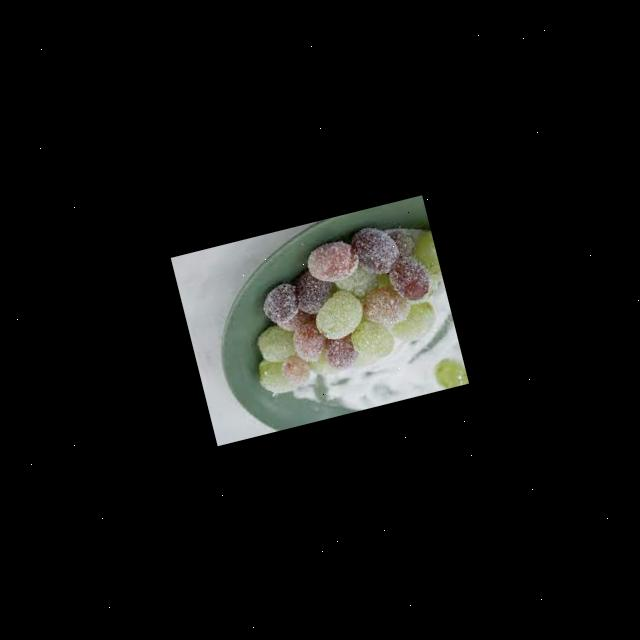grape: (230, 212, 460, 400)
